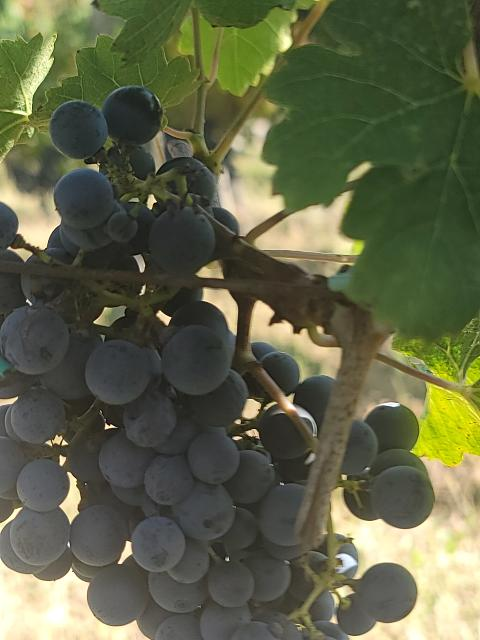grapes: (0, 271, 416, 640), (26, 89, 216, 279)
